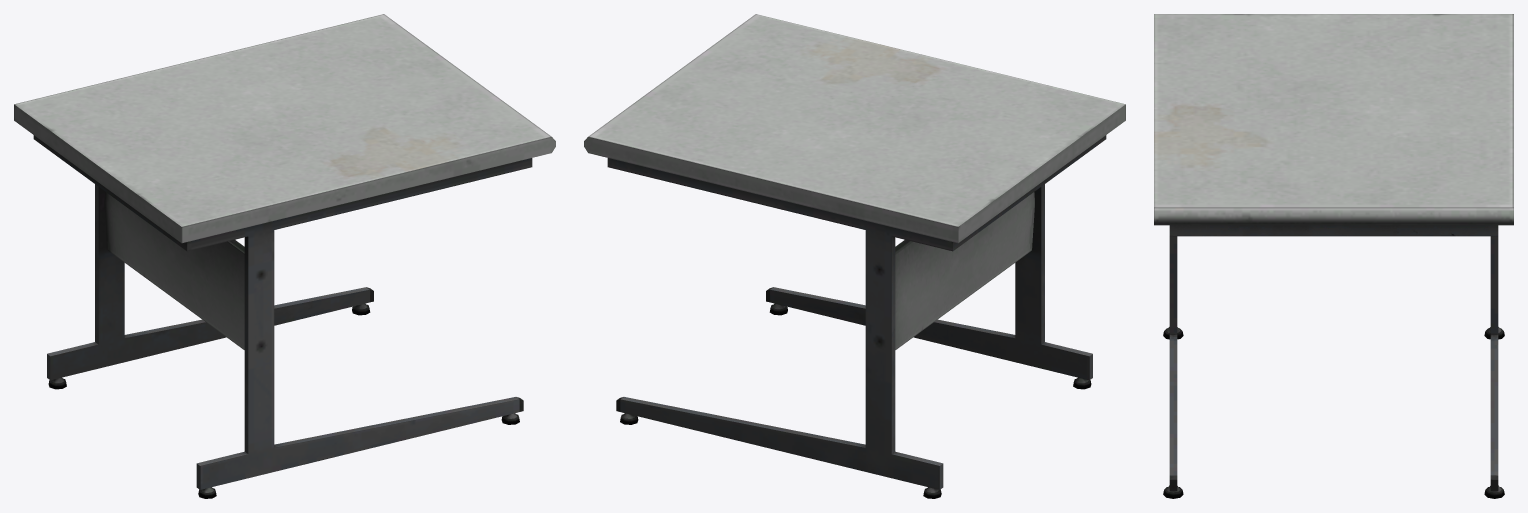
The model's file is lab_desk04.glb.
3 renders of one model, left to right at view 1: azimuth 30°, elevation 25°; view 2: azimuth 150°, elevation 25°; view 3: azimuth 270°, elevation 25°, orthographic. The views are drawn at different scales.
Parts seen in each view (by area): view 1: lab_desk04_parts\obj\lab_desk04.obj; view 2: lab_desk04_parts\obj\lab_desk04.obj; view 3: lab_desk04_parts\obj\lab_desk04.obj.
Boxes of the visible parts, x1,y1,x2,y2 form: lab_desk04_parts\obj\lab_desk04.obj: [14, 14, 555, 498]; lab_desk04_parts\obj\lab_desk04.obj: [584, 14, 1125, 498]; lab_desk04_parts\obj\lab_desk04.obj: [1154, 14, 1513, 498].
Bounding box in the file's own units: 0.9911 × 0.7173 × 0.7695.
Materials: 1 (1 with a texture image).
